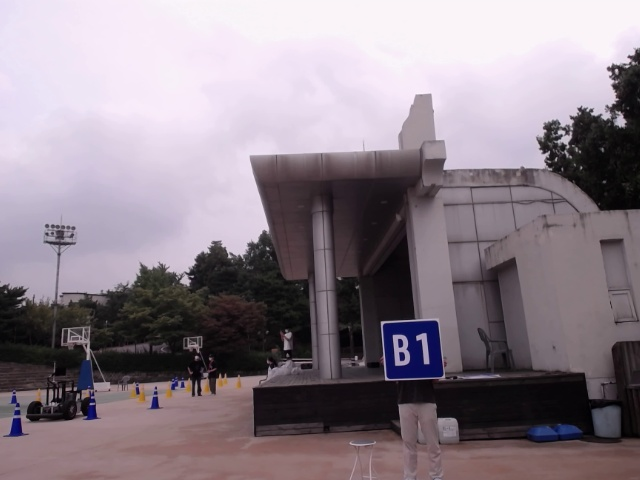delivery_b1: (381, 319, 445, 381)
